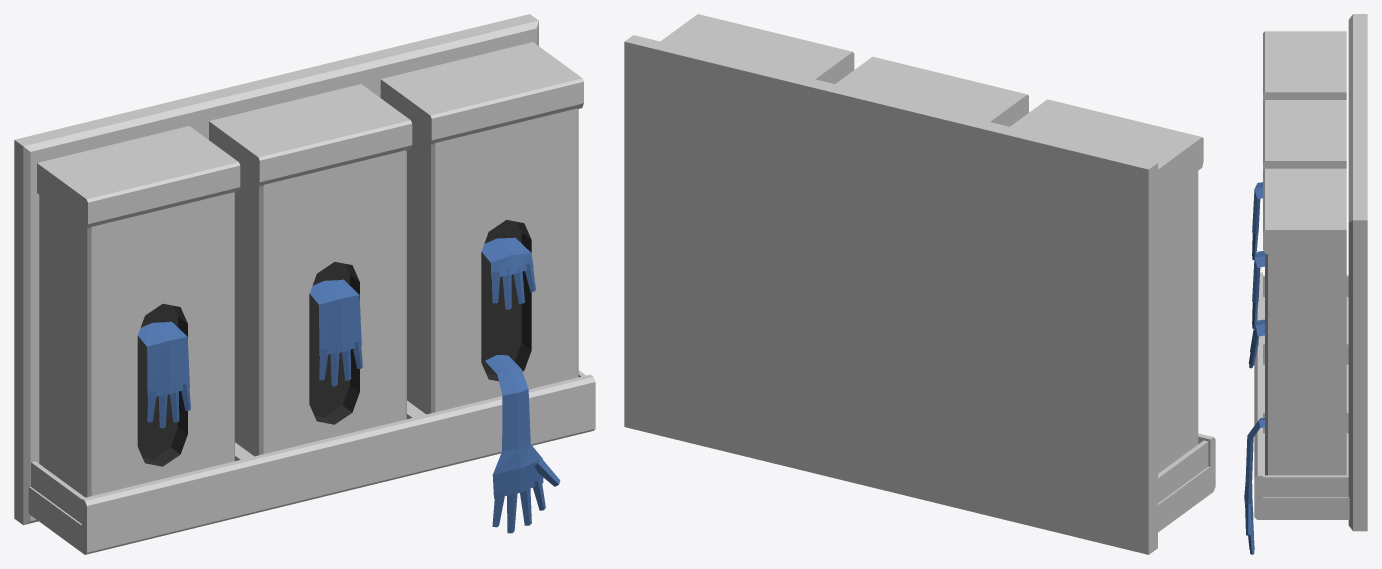
File: glove-dispenser-rack-11419e.glb
3 views of the same model, side by side, from view 1: azimuth 30°, elevation 25°; view 2: azimuth 150°, elevation 25°; view 3: azimuth 270°, elevation 25° (orthographic). The views are drawn at different scales.
Visible parts, largest first — view 1: glove-dispenser-rack, carton; view 2: glove-dispenser-rack, carton; view 3: glove-dispenser-rack, carton.
Part boxes in pixels (x1,y1,x2,y2): glove-dispenser-rack: [14, 14, 595, 554]; carton: [380, 42, 583, 533]; glove-dispenser-rack: [624, 35, 1215, 554]; carton: [660, 14, 854, 83]; glove-dispenser-rack: [1252, 14, 1367, 531]; carton: [1244, 168, 1346, 554].
Bounding box in the file's own units: 0.9 × 0.7429 × 0.2275.
